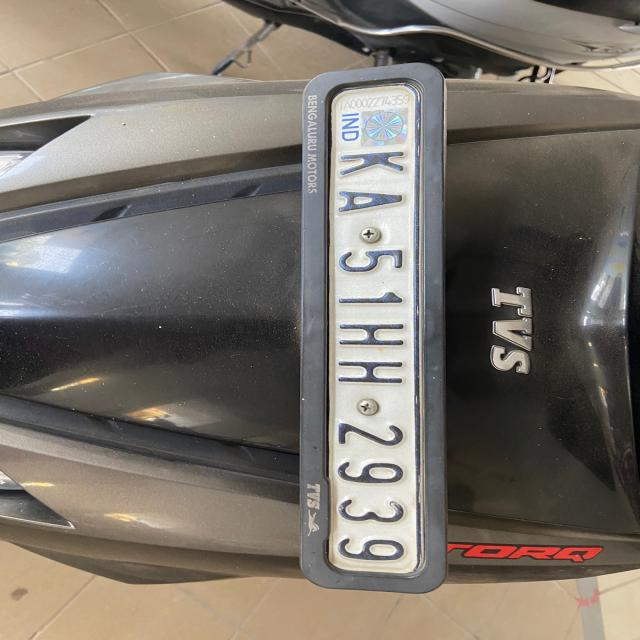1: (334, 283, 416, 313)
3: (329, 493, 416, 523)
5: (328, 236, 416, 274)
9: (332, 530, 424, 574), (330, 450, 414, 486)
A: (324, 176, 409, 218)
H: (332, 354, 442, 396), (330, 310, 416, 352)
K: (331, 136, 414, 180)
